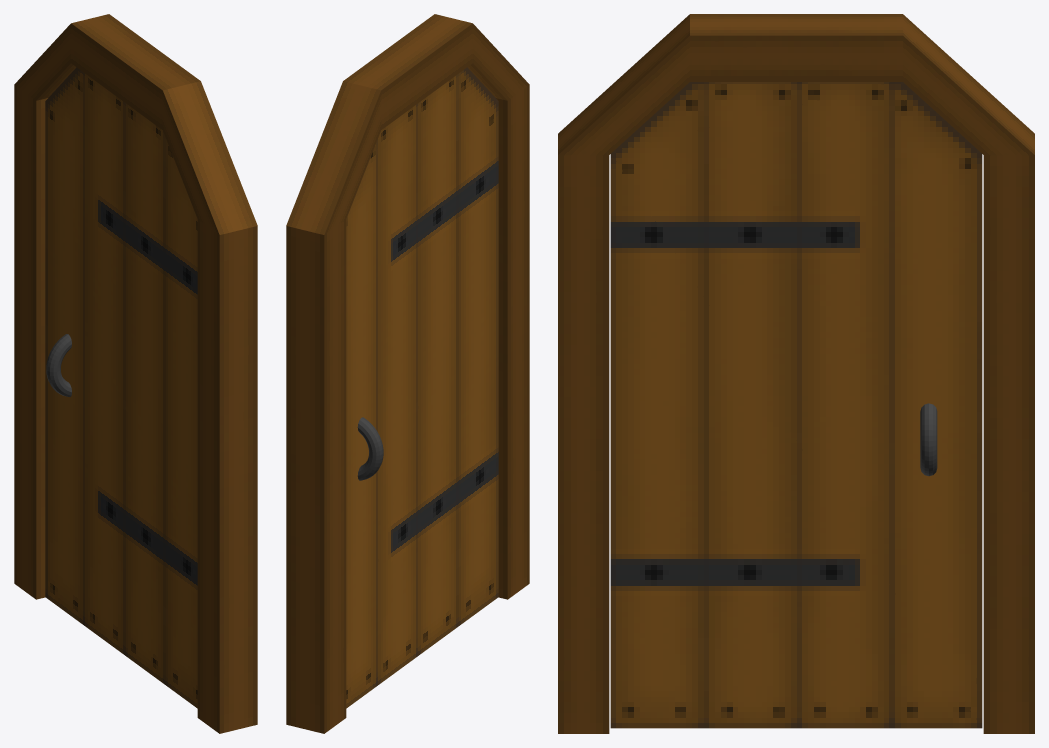
File: Door.glb
3 views of the same model, side by side, from view 1: azimuth 30°, elevation 25°; view 2: azimuth 150°, elevation 25°; view 3: azimuth 270°, elevation 25° (orthographic). The views are drawn at different scales.
Visible parts, largest first — view 1: Door-col, Doorway-col; view 2: Door-col, Doorway-col; view 3: Door-col, Doorway-col.
Boxes of the visible parts, left/top/right/bottom form: Door-col: left=45, top=67, right=197, bottom=708; Doorway-col: left=14, top=14, right=257, bottom=733; Door-col: left=346, top=67, right=498, bottom=708; Doorway-col: left=286, top=14, right=529, bottom=733; Door-col: left=610, top=82, right=982, bottom=728; Doorway-col: left=558, top=14, right=1034, bottom=733.
Size of the model in its own units: 0.2 by 1.81 by 1.12.
Materials: 3 (2 with a texture image).
